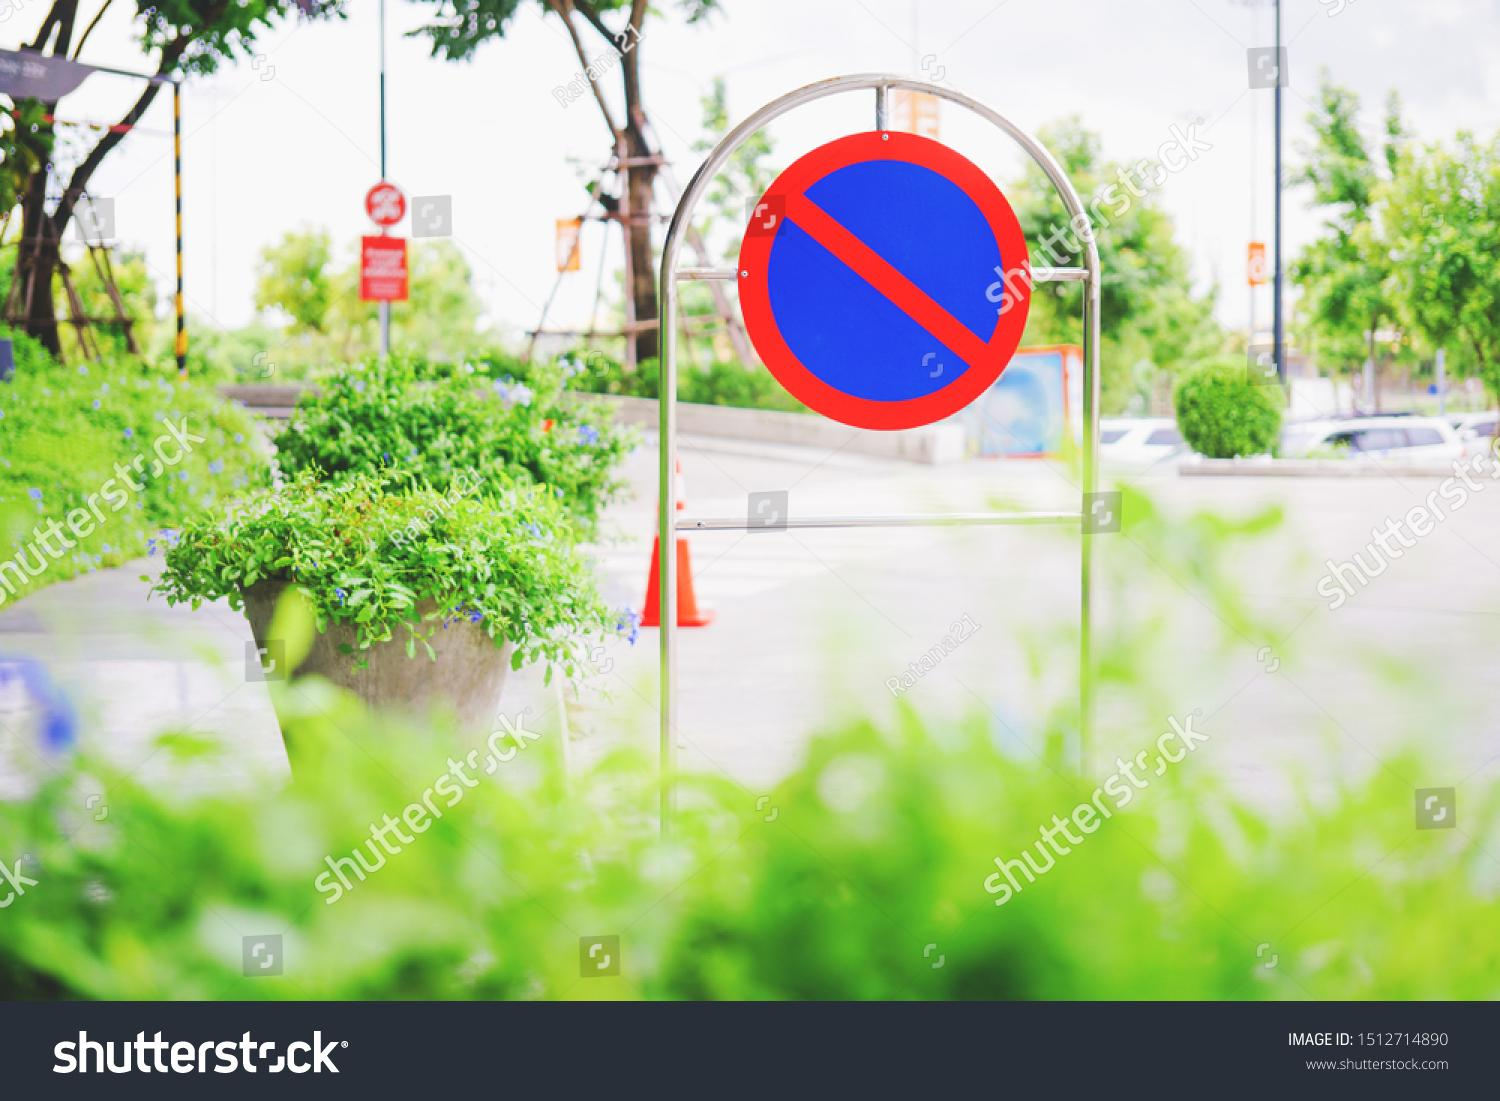No Parking: (726, 126, 1047, 481)
